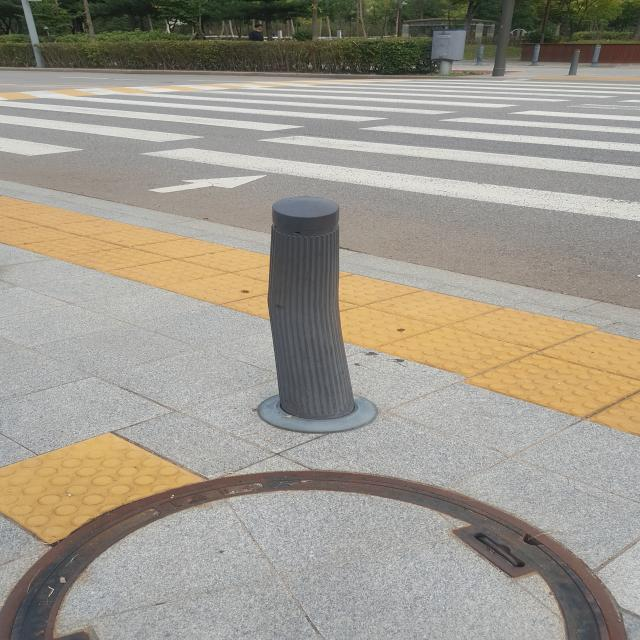pole: (256, 196, 376, 434)
